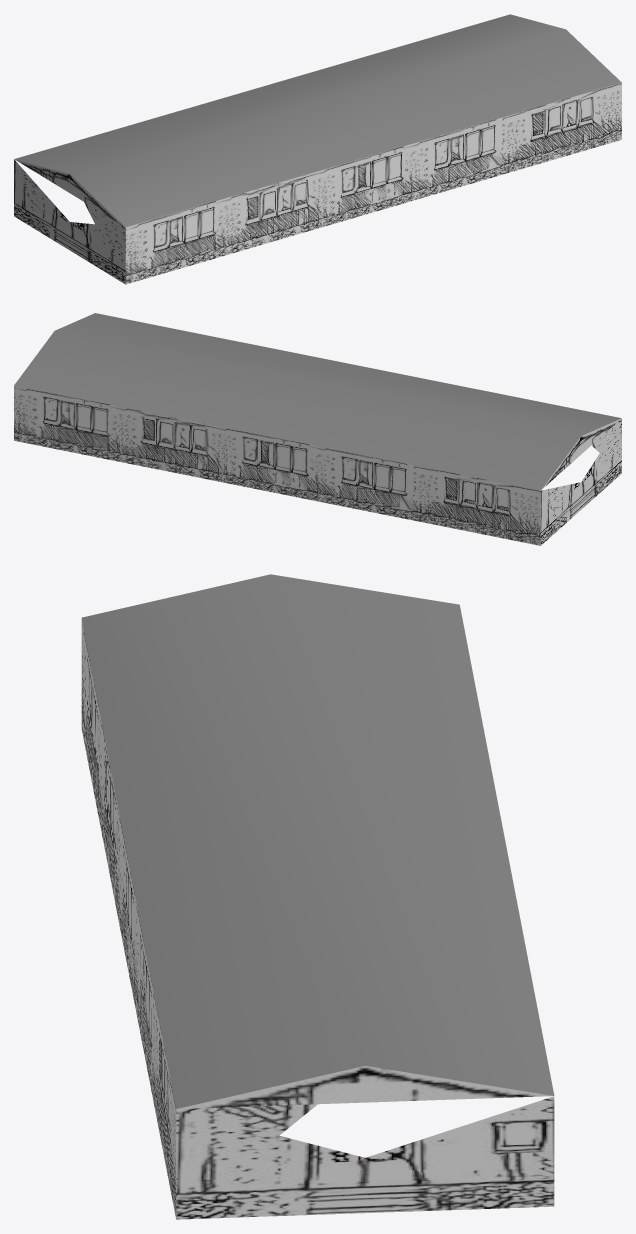
File: Verwaltungsgebaeude_2.gltf
3 views of the same model, one above another, from view 1: azimuth 30°, elevation 25°; view 2: azimuth 150°, elevation 25°; view 3: azimuth 270°, elevation 25° (orthographic). The views are drawn at different scales.
Parts seen in each view (by area): view 1: Dach.1; view 2: Dach.1; view 3: Dach.1.
Boxes of the visible parts, box(x1,y1,x2,y2) form: Dach.1: box(14, 14, 621, 284); Dach.1: box(14, 313, 621, 545); Dach.1: box(81, 574, 554, 1219).
Size of the model in its own units: 44 by 6.02 by 17.45.
4 materials, 3 textured.
